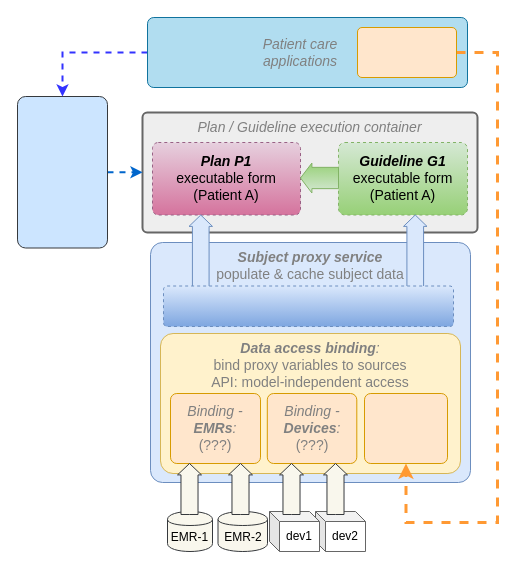
The diagram is 524 pixels wide and 569 high, and some of its shapes have lost their labels. The shapes that lost their labels are listed below. From the top down, each one's centre as x and y in pixels, then its label:
[406,52]: Missing data requester
[62,172]: Care Pathway Manager select / recommend based on patient, physician input
[308,305]: Subject dataset S1 (Patient A)
[406,428]: Binding - Users : (???)
